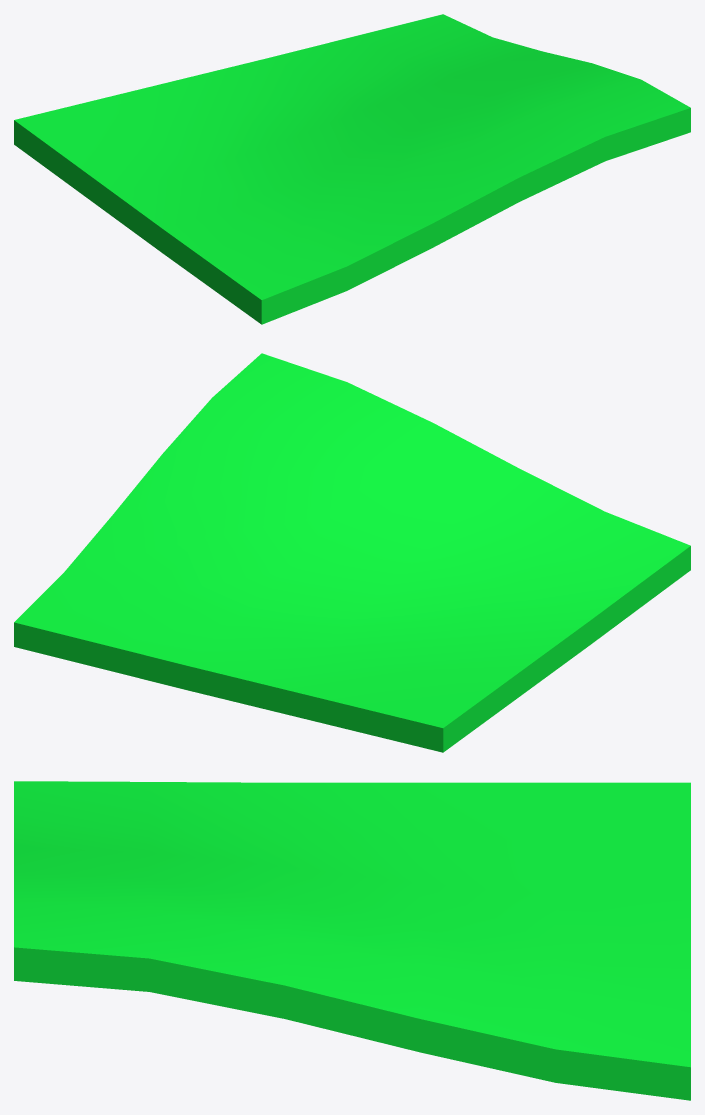
File: post-square-1.fbx
3 views of the same model, one above another, from view 1: azimuth 30°, elevation 25°; view 2: azimuth 150°, elevation 25°; view 3: azimuth 270°, elevation 25° (orthographic). The views are drawn at different scales.
Visible parts, largest first — view 1: Cube; view 2: Cube; view 3: Cube.
Part boxes in pixels (x1,y1,x2,y2): Cube: [14, 14, 690, 324]; Cube: [14, 353, 690, 752]; Cube: [14, 781, 690, 1100].
Size of the model in its own units: 200 by 50.5 by 200.
